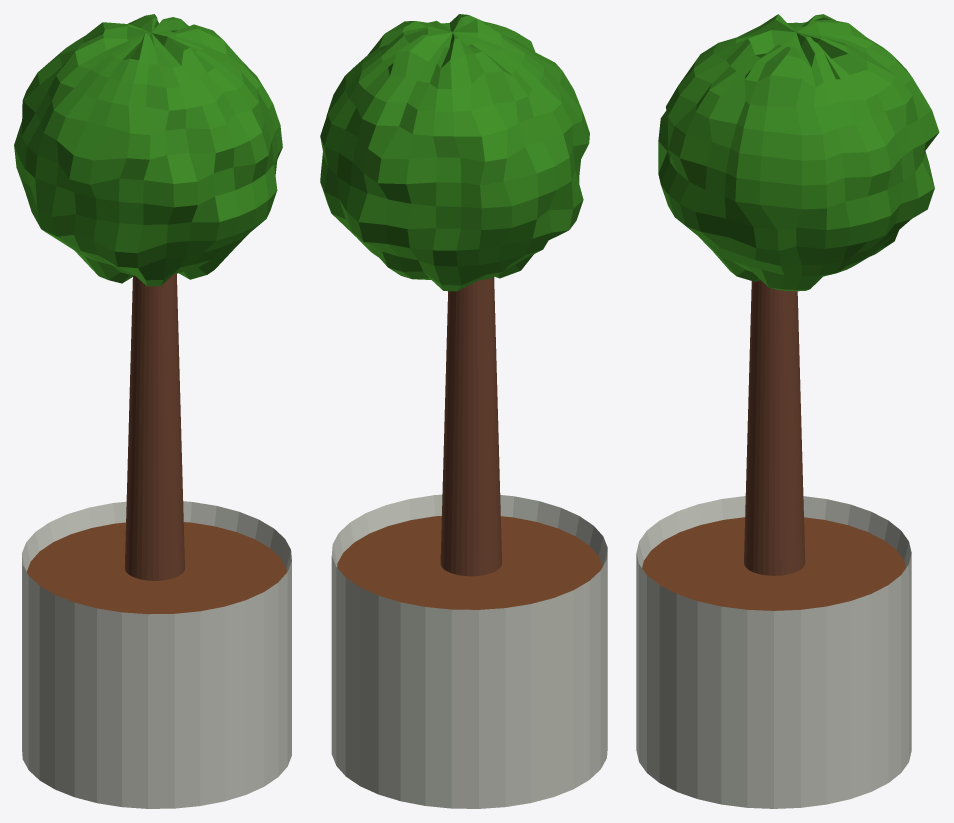
The model's file is topfpflanze1.fbx.
The picture shows the model from 3 angles, left to right: view 1: azimuth 30°, elevation 25°; view 2: azimuth 150°, elevation 25°; view 3: azimuth 270°, elevation 25°; orthographic projection. The views are drawn at different scales.
Parts seen in each view (by area): view 1: Cylinder; view 2: Cylinder; view 3: Cylinder.
Part boxes in pixels (bbox=[...]): Cylinder: bbox=[14, 14, 291, 808]; Cylinder: bbox=[320, 14, 607, 808]; Cylinder: bbox=[636, 14, 939, 808].
Bounding box in the file's own units: 40.22 × 117 × 44.05.
